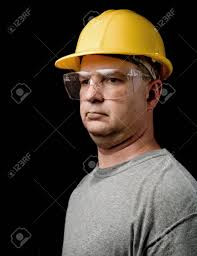Person_wearing_helmet: (52, 6, 175, 96)
